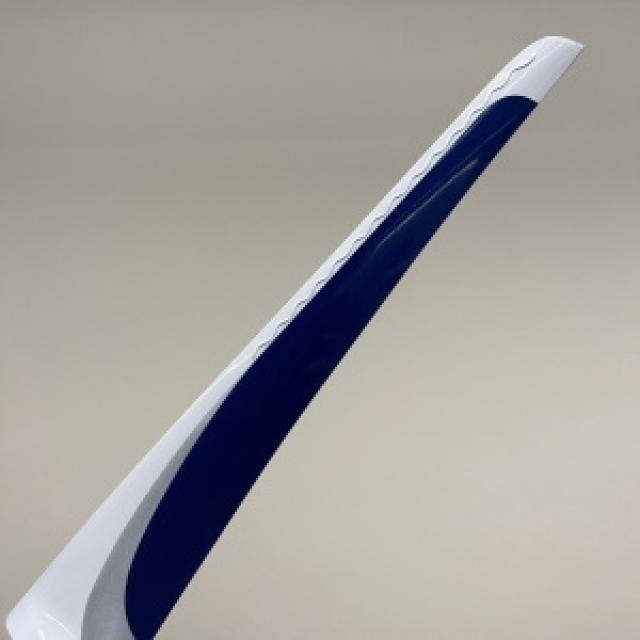healthy: (4, 36, 580, 638)
